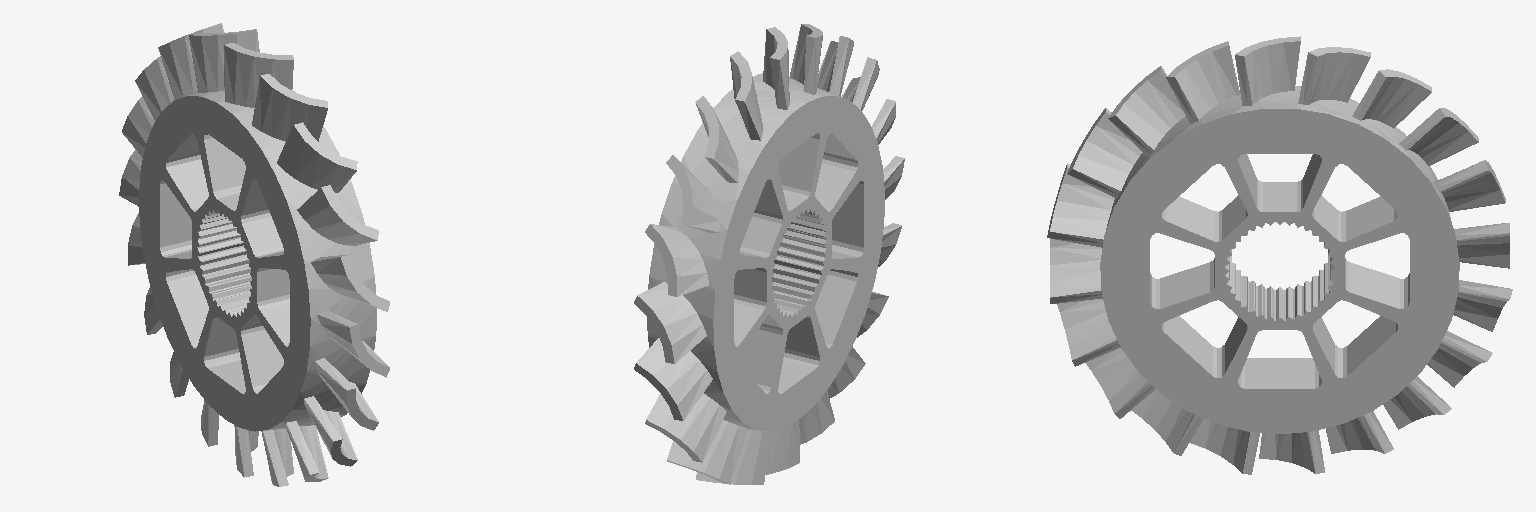
The picture shows the model from 3 angles: view 1: azimuth 30°, elevation 25°; view 2: azimuth 150°, elevation 25°; view 3: azimuth 270°, elevation 25°; orthographic projection.
Parts seen in each view (by area): view 1: Компрессор_№03; view 2: Компрессор_№03; view 3: Компрессор_№03.
Boxes of the visible parts, x1=… form: Компрессор_№03: x1=119, y1=23, x2=389, y2=486; Компрессор_№03: x1=634, y1=24, x2=904, y2=484; Компрессор_№03: x1=1047, y1=36, x2=1512, y2=474.
Bounding box in the file's own units: 10 × 64.76 × 64.76.